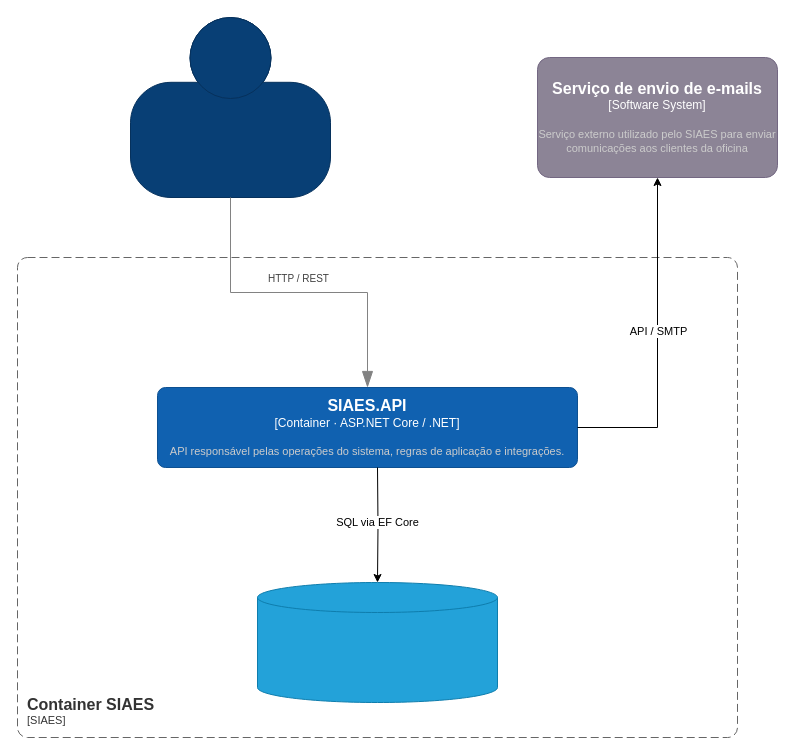
The diagram is 795 pixels wide and 755 high, and some of its shapes have lost their labels. Each missing label, with the centre of its shape:
"SIAES_DB [PostgreSQL: Entity Framework Core] PostgreSQL 16-ALPINE" goes at [377,642].
"Usuários da Oficina [Persons] Atendentes, mecânicos e administradores" goes at [230,107].
